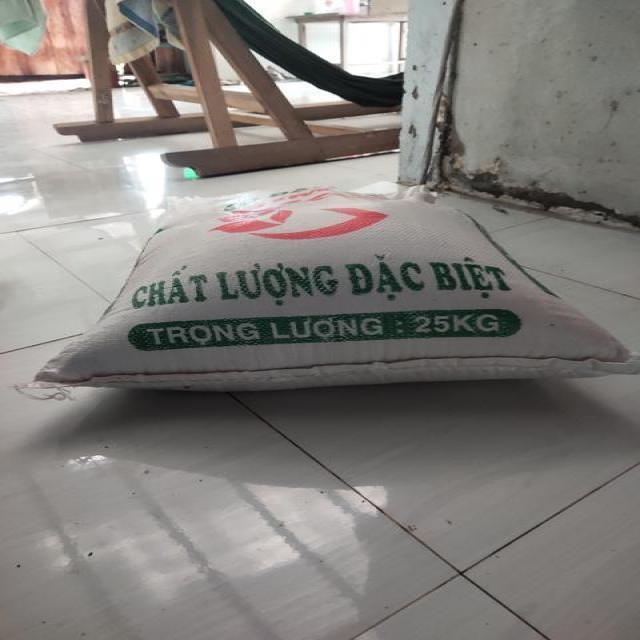gunny_bag: (33, 187, 640, 392)
